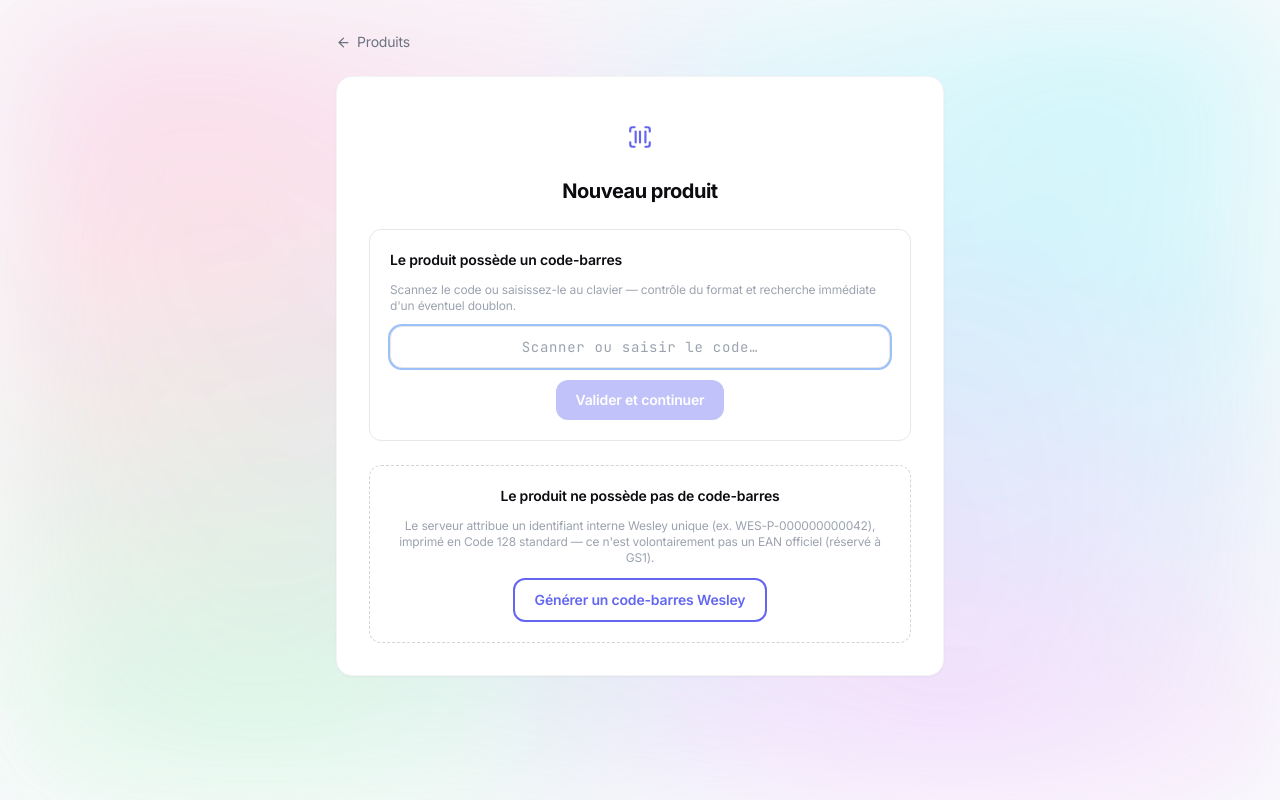
Test: Porte Nouveau produit — deux parcours › saisie clavier d’un code EXISTANT → doublon détecté immédiatement (tests 2+5)
Type "4006381333931" into the field with placeholder "Scanner ou saisir le code…" at [640, 347], box [390,326,890,368]
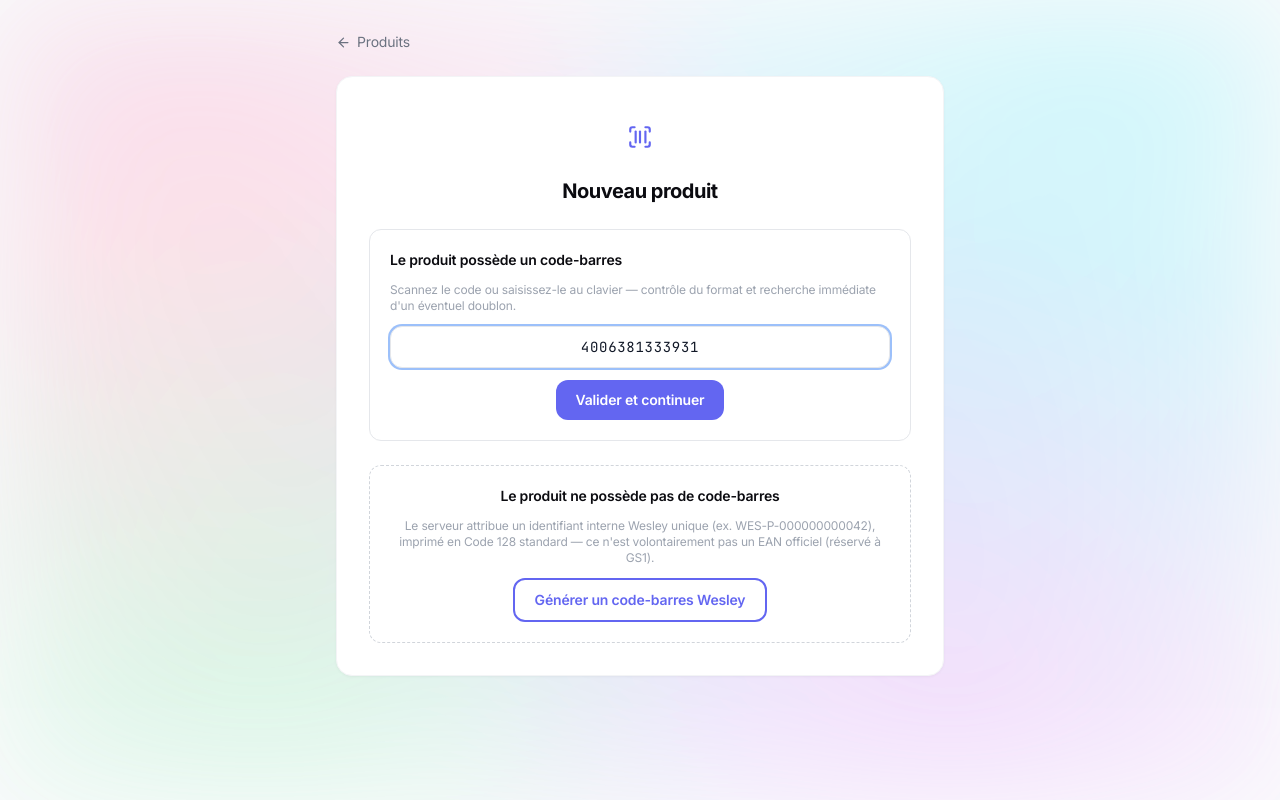
Click the button "Valider et continuer" at [640, 400], box [556,380,724,420]
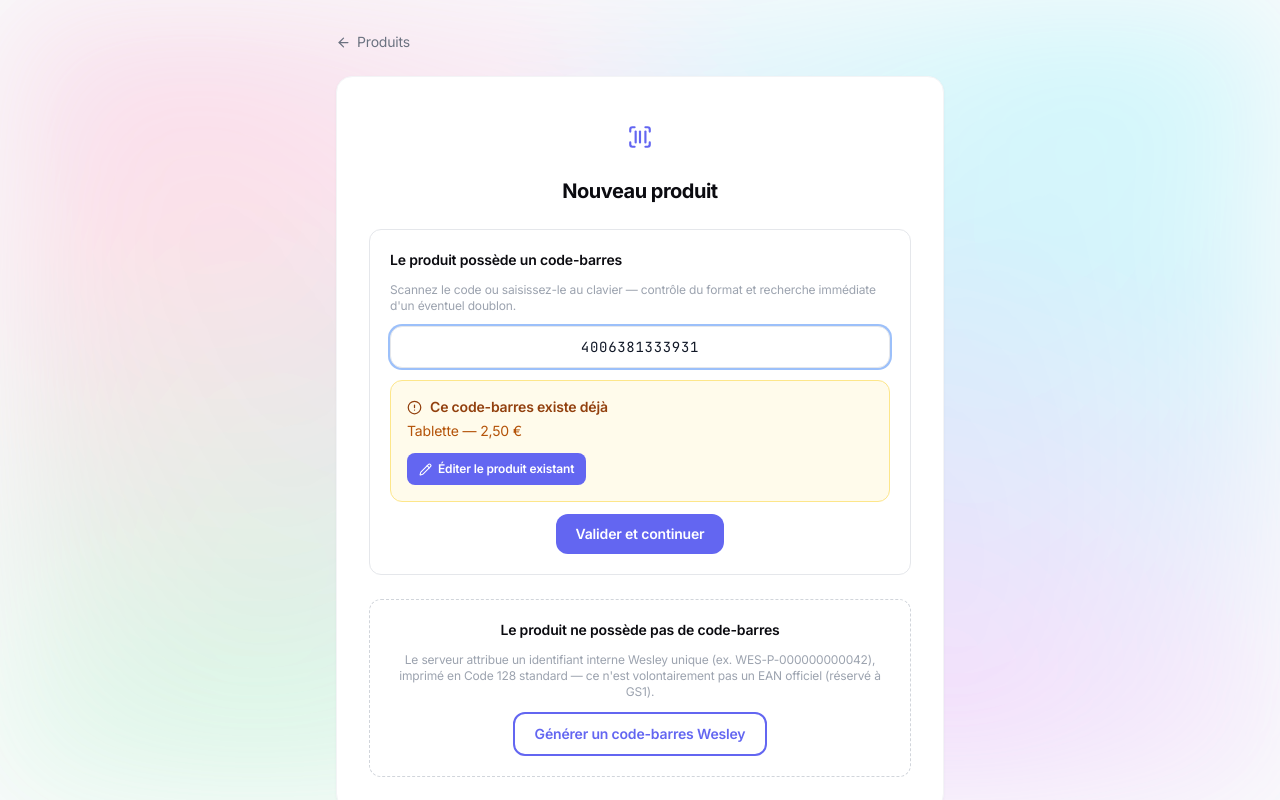
Expected: the text "Ce code-barres existe déjà" is shown, [407,398,608,415]
Expected: the text "Tablette — 2,50 €" is shown, [407,422,522,439]
